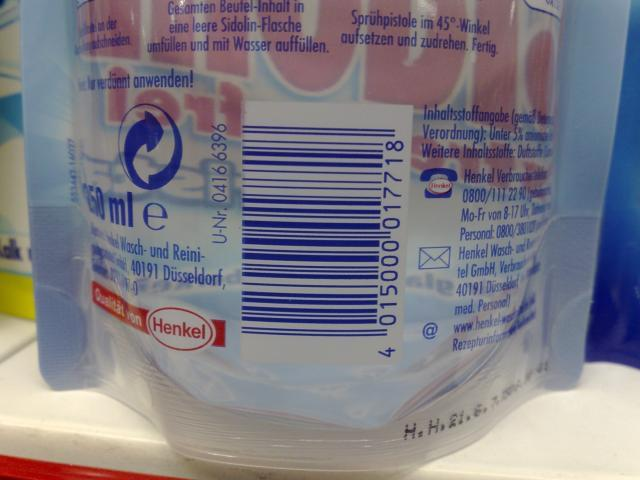Barcode: (239, 101, 413, 369)
